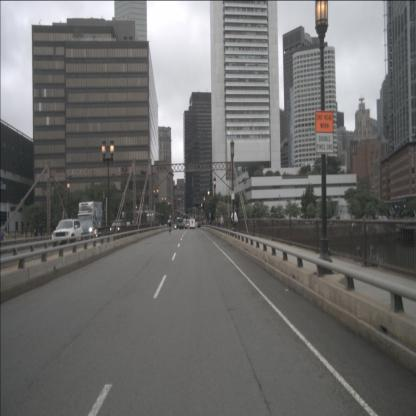human-pedestrian-adult: (231, 208, 238, 235), (0, 222, 5, 249), (38, 221, 44, 242), (34, 222, 38, 243), (220, 214, 224, 232), (217, 215, 221, 229), (215, 216, 217, 228)
vehicle-bicycle: (168, 215, 172, 235)
vehicle-car: (52, 219, 84, 246), (80, 220, 98, 242), (110, 219, 126, 235), (177, 222, 187, 230)
vehicle-truck: (78, 201, 103, 234), (190, 218, 195, 229)
